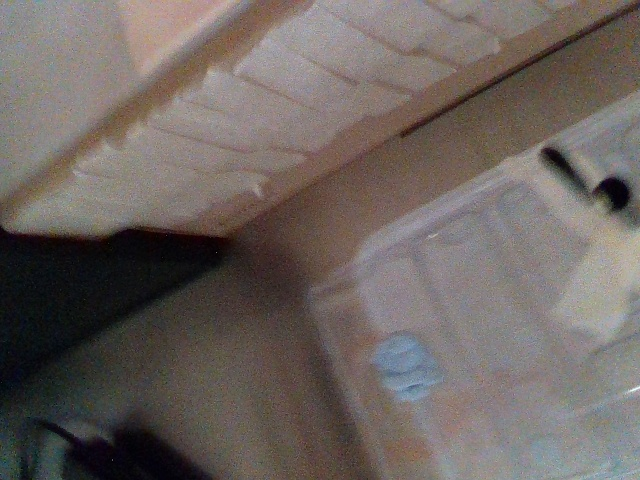test_strip: (533, 142, 600, 212)
